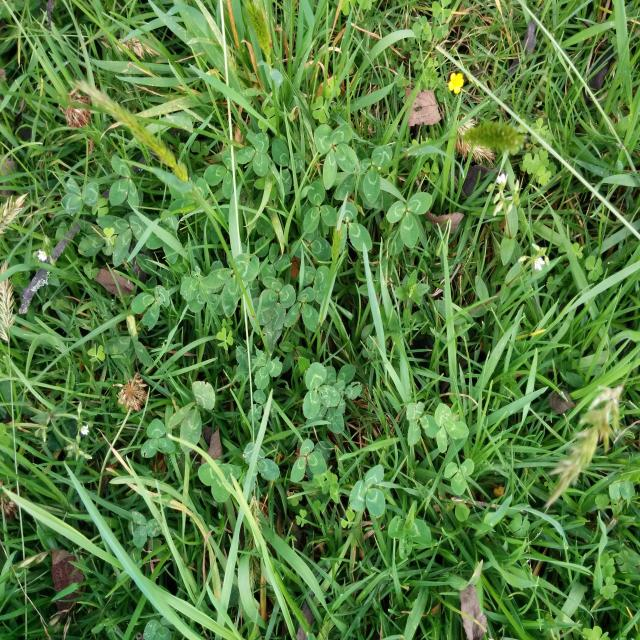Four Leaf Clover: (313, 123, 359, 190)
